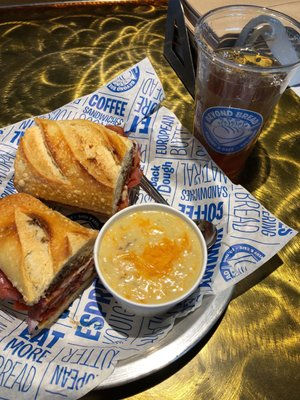pizza: (167, 0, 300, 183), (93, 203, 212, 318)
soup: (13, 118, 142, 223)
sushi: (93, 204, 212, 320)
